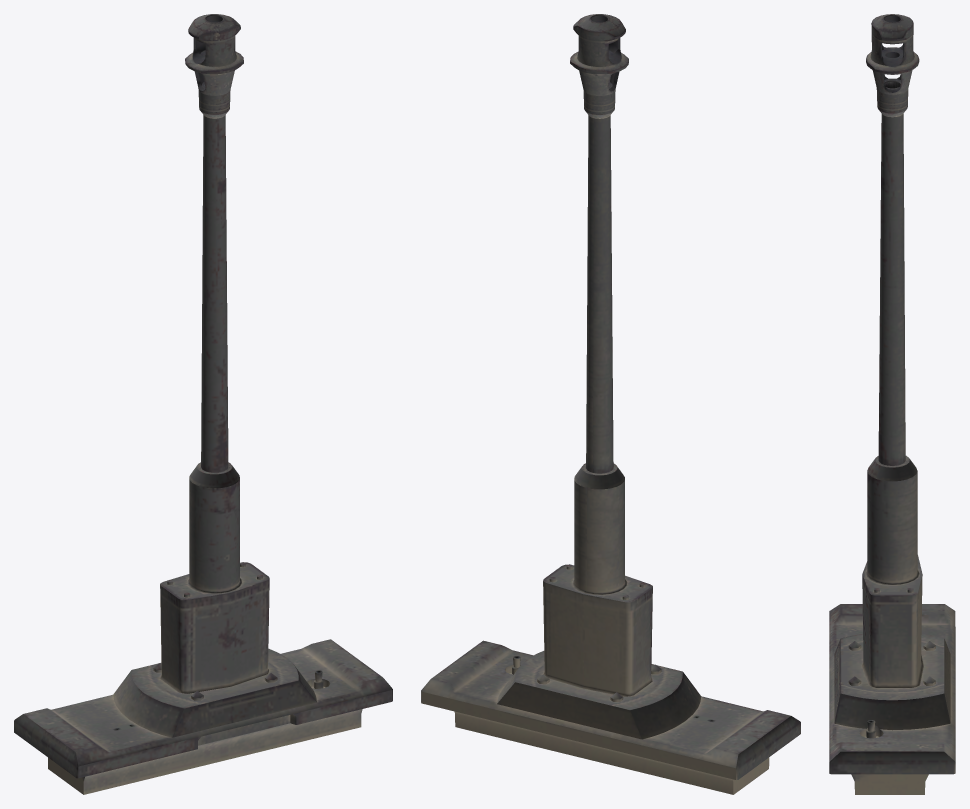
File: Gun_02.glb
The picture shows the model from 3 angles, left to right: view 1: azimuth 30°, elevation 25°; view 2: azimuth 150°, elevation 25°; view 3: azimuth 270°, elevation 25°; orthographic projection.
Visible parts, largest first — view 1: set_0_group_0; view 2: set_0_group_0; view 3: set_0_group_0.
Boxes of the visible parts, x1,y1,x2,y2 form: set_0_group_0: (14, 14, 392, 794); set_0_group_0: (421, 14, 800, 794); set_0_group_0: (829, 14, 955, 794).
Bounding box in the file's own units: 1.6 × 3.51 × 0.5606.
Materials: 1 (1 with a texture image).
